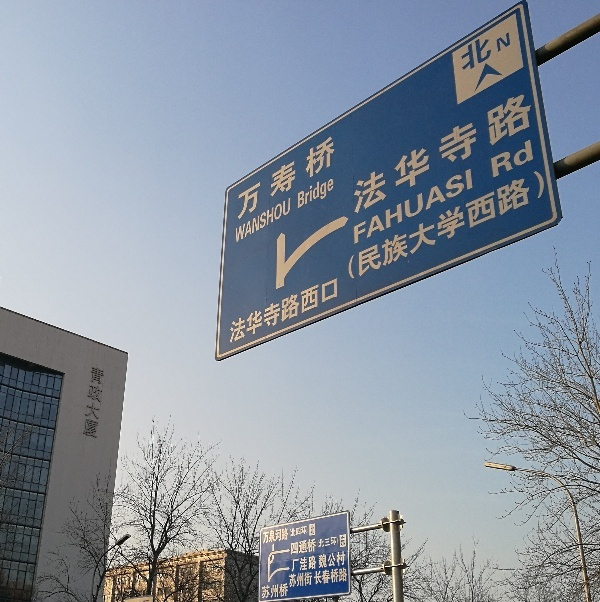text: (353, 89, 368, 218), (369, 89, 384, 218), (385, 89, 400, 218), (401, 89, 416, 218), (417, 89, 432, 218), (433, 89, 448, 218), (449, 89, 464, 218), (465, 89, 480, 218), (481, 89, 496, 218), (497, 89, 512, 218), (513, 89, 528, 218), (353, 168, 368, 283), (369, 168, 384, 283), (385, 168, 400, 283), (401, 168, 416, 283), (417, 168, 432, 283), (433, 168, 448, 283), (449, 168, 464, 283), (465, 168, 480, 283), (481, 168, 496, 283), (497, 168, 512, 283), (513, 168, 528, 283), (529, 168, 544, 283), (241, 135, 256, 222), (257, 135, 272, 222), (273, 135, 288, 222), (289, 135, 304, 222), (305, 135, 320, 222), (321, 135, 336, 222), (529, 89, 538, 218), (369, 169, 384, 246), (385, 169, 400, 246), (401, 169, 416, 246), (417, 169, 432, 246), (433, 169, 448, 246), (449, 169, 464, 246), (354, 169, 368, 246), (241, 275, 256, 346), (257, 275, 272, 346), (273, 275, 288, 346), (289, 275, 304, 346), (305, 275, 320, 346), (321, 275, 336, 346), (229, 275, 240, 346), (465, 169, 475, 246), (241, 197, 256, 244), (257, 197, 272, 244), (273, 197, 288, 244), (346, 168, 352, 283), (97, 366, 106, 440), (497, 138, 512, 179), (513, 138, 528, 179), (465, 34, 480, 74), (321, 176, 337, 210), (234, 135, 240, 222), (481, 34, 494, 74), (305, 176, 320, 210), (337, 135, 342, 222), (545, 168, 548, 283), (497, 31, 512, 53), (92, 366, 96, 440), (489, 138, 496, 179), (529, 138, 536, 179), (321, 567, 336, 586), (457, 34, 464, 74), (273, 527, 288, 545), (321, 552, 336, 569), (289, 571, 304, 588), (290, 556, 304, 574), (273, 583, 288, 599), (297, 176, 304, 210), (290, 539, 304, 556), (235, 197, 240, 244), (305, 556, 318, 574), (337, 567, 349, 586), (337, 275, 340, 346), (305, 539, 317, 556), (262, 527, 272, 545), (289, 526, 304, 538), (321, 537, 336, 549), (261, 583, 272, 599), (337, 552, 347, 569), (305, 571, 314, 588), (313, 567, 320, 586), (341, 536, 352, 546), (289, 197, 291, 244), (311, 525, 320, 535), (305, 526, 309, 538), (317, 537, 320, 549), (318, 552, 320, 569), (337, 537, 339, 549), (289, 527, 290, 545), (289, 583, 290, 599)
